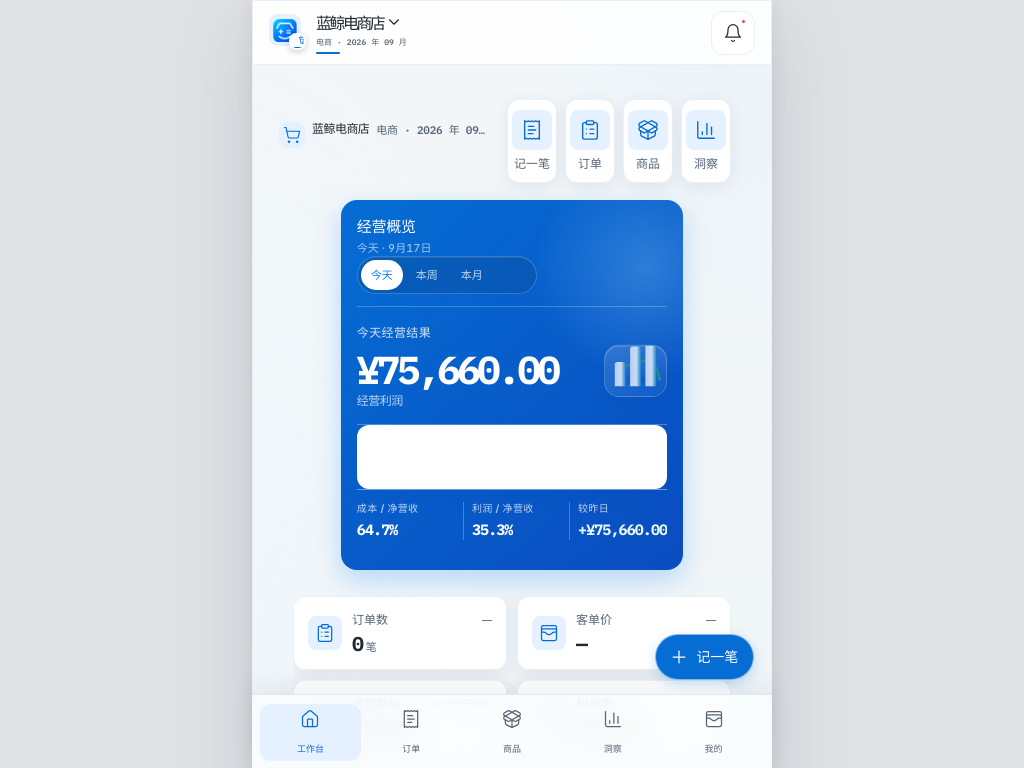
Test: C3 洞察页渐进信息架构：首屏两组 › 首屏固定两组：经营利润（结论+利润桥）与趋势与商品毛利，其余卡片进入渐进复核区且默认收起
This screenshot has width=1024, height=768.
Step 1. Click the 2nd button "洞察" → (613, 732), box [562, 704, 663, 761]
(page scrolled)
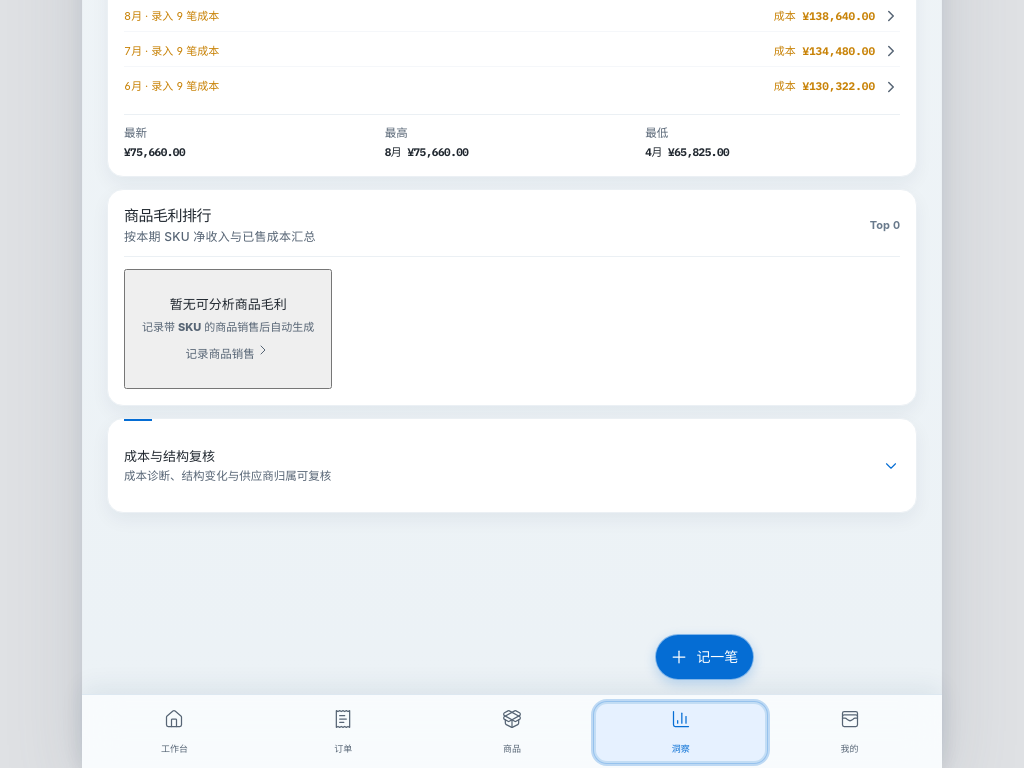
Expected: the heading "商品毛利排行" is shown, [124, 206, 211, 225]
Expected: the button "成本与结构复核 成本诊断、结构变化与供应商归属可复核" is shown, [124, 435, 900, 496]
